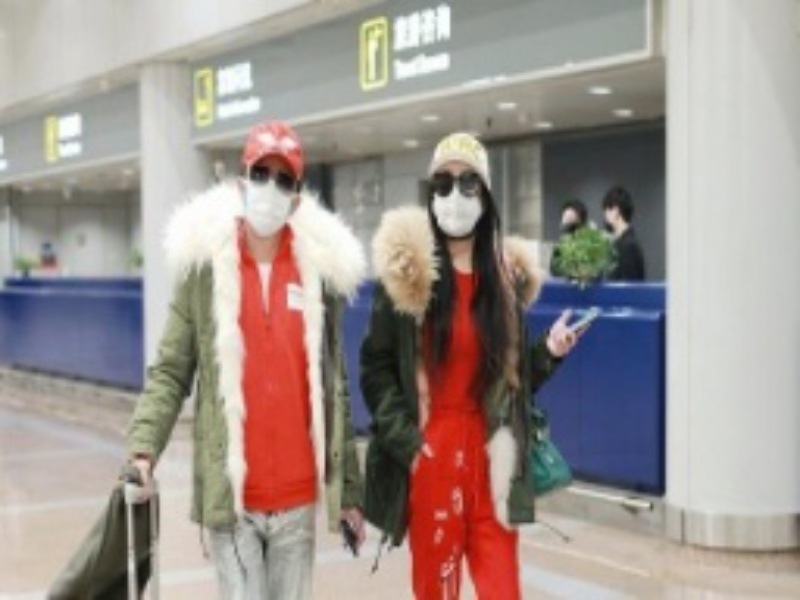ManaoArotava: (227, 116, 320, 261), (409, 128, 510, 250)
